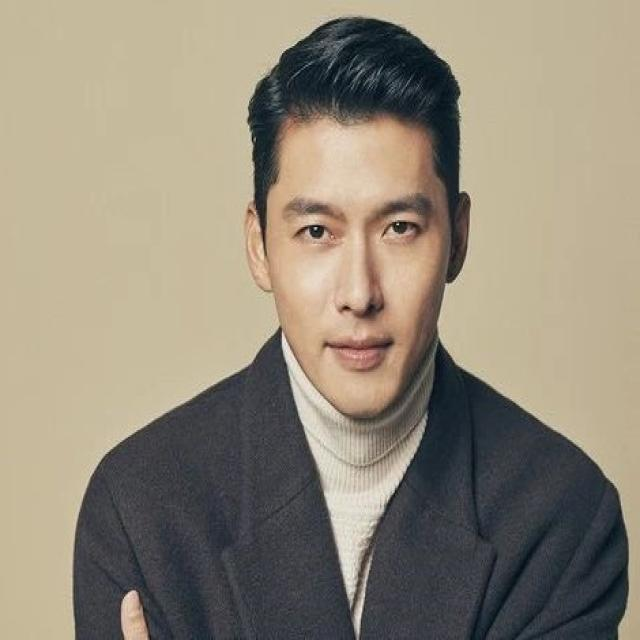Nonhelmet: (238, 12, 476, 421)
